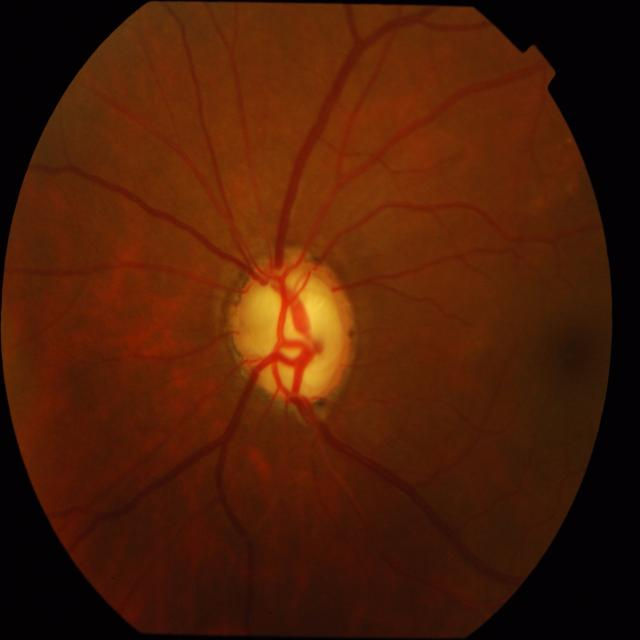OC: (248, 270, 342, 401)
OD: (232, 250, 354, 406)
